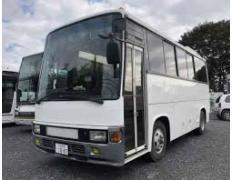bus: (26, 6, 213, 167)
